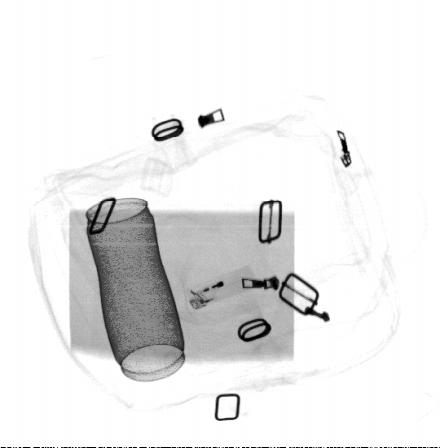Lighter: (186, 264, 258, 311)
